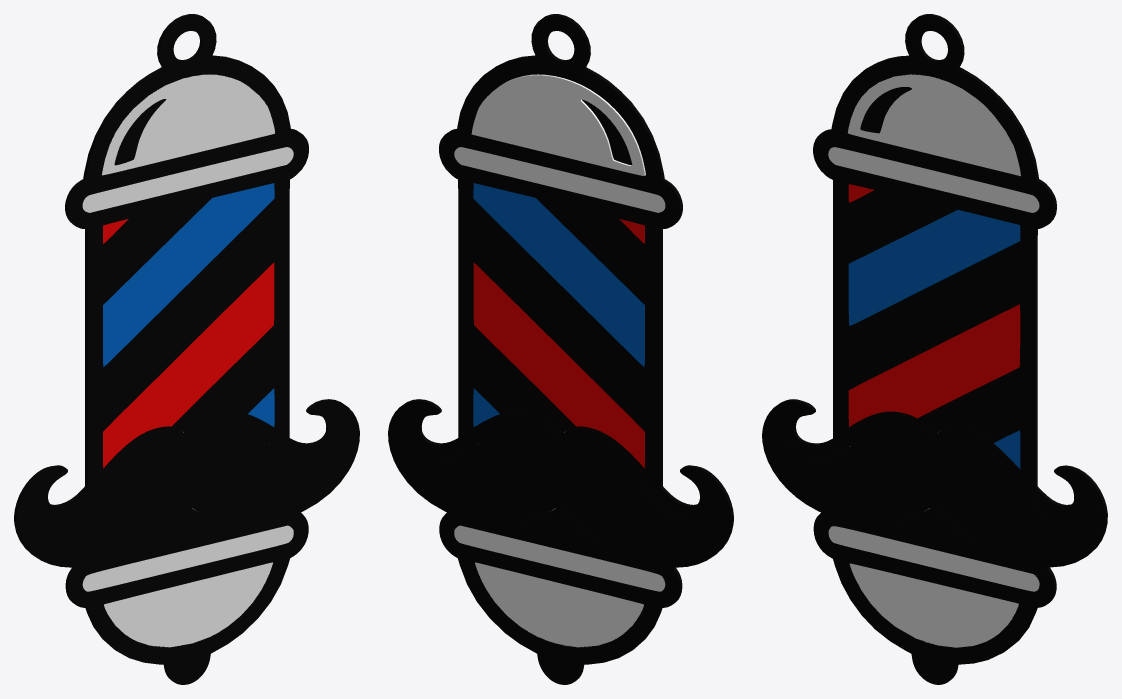
Rendered from modelo.gltf.
3 renders of one model, left to right at view 1: azimuth 30°, elevation 25°; view 2: azimuth 150°, elevation 25°; view 3: azimuth 330°, elevation 25°, orthographic.
Visible parts, largest first — view 1: Node1, Node8, Node13, Node17, Node5, Node10, Node2, Node14, Node15, Node4, Node6, Node11 (+2 smaller); view 2: Node1, Node8, Node13, Node12, Node5, Node10, Node2, Node14, Node15, Node4, Node6, Node11 (+2 smaller); view 3: Node1, Node8, Node13, Node17, Node5, Node10, Node2, Node14, Node15, Node4, Node6, Node11 (+2 smaller).
Part boxes in pixels (x1,y1,x2,y2): Node1: (14,14,359,684); Node8: (32,426,344,549); Node13: (103,199,274,431); Node17: (102,74,274,175); Node5: (103,262,274,468); Node10: (103,183,274,366); Node2: (104,562,272,647); Node14: (103,198,211,304); Node15: (172,326,273,435); Node4: (82,147,293,212); Node6: (82,525,293,591); Node11: (137,505,238,548); Node1: (388,14,733,684); Node8: (403,426,715,549); Node13: (473,199,644,431); Node12: (471,74,645,175); Node5: (473,262,644,468); Node10: (473,183,644,366); Node2: (475,562,643,647); Node14: (536,198,644,304); Node15: (474,326,575,435); Node4: (454,147,665,212); Node6: (454,525,665,591); Node11: (509,505,610,548); Node1: (762,14,1107,684); Node8: (778,426,1090,549); Node13: (848,241,1020,389); Node17: (848,74,1020,176); Node5: (848,304,1020,427); Node10: (848,210,1020,325); Node2: (849,563,1018,647); Node14: (848,190,957,263); Node15: (917,367,1019,442); Node4: (828,147,1039,212); Node6: (828,526,1039,591); Node11: (882,505,984,548).
Size of the model in its own units: 3.59 by 6.67 by 0.06.
